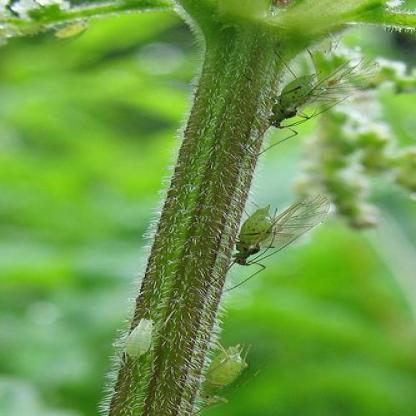aphid: (227, 190, 332, 292), (257, 52, 366, 144), (200, 335, 257, 414), (105, 308, 168, 367)
